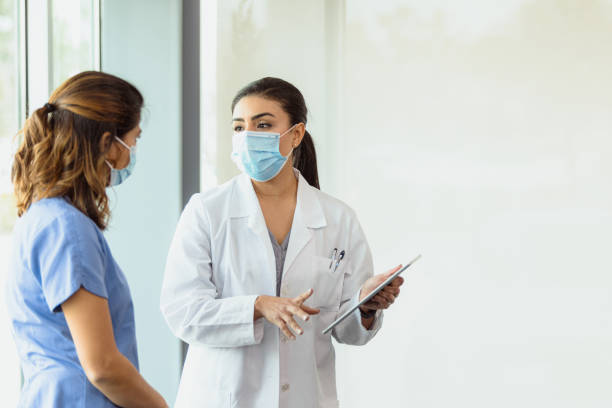with mask: (43, 65, 145, 194), (220, 76, 309, 180)
